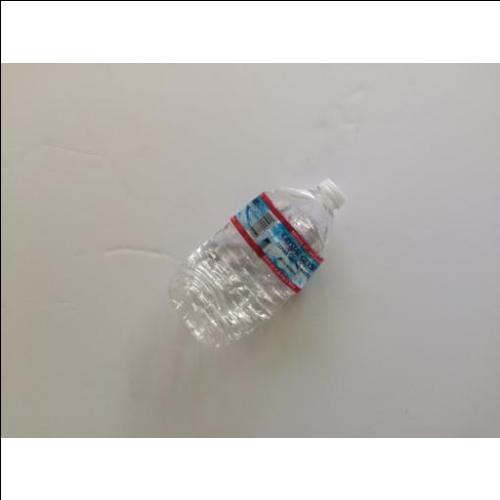plastic: (175, 177, 346, 351)
